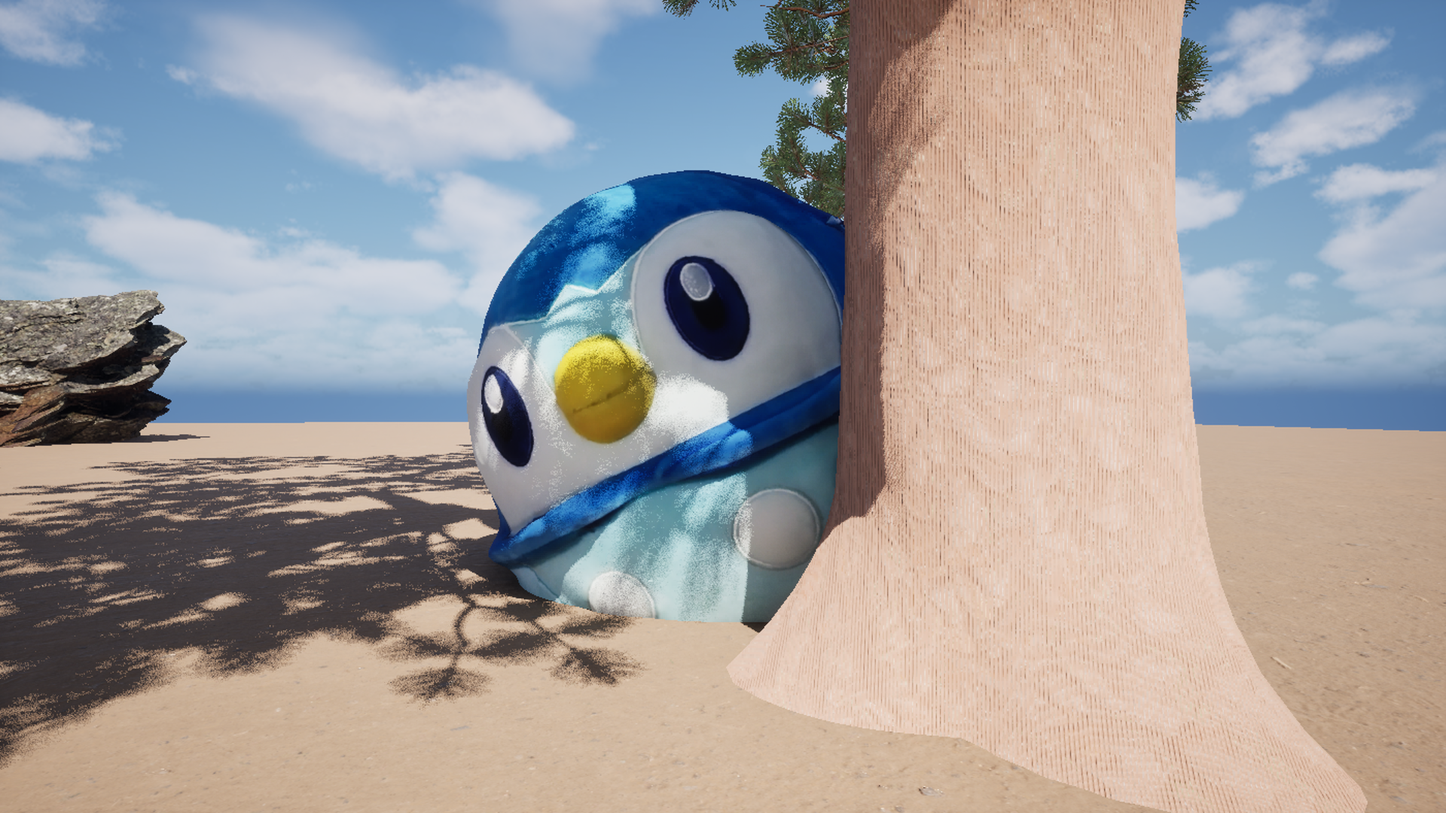Piplup: (54, 0, 1360, 813)
